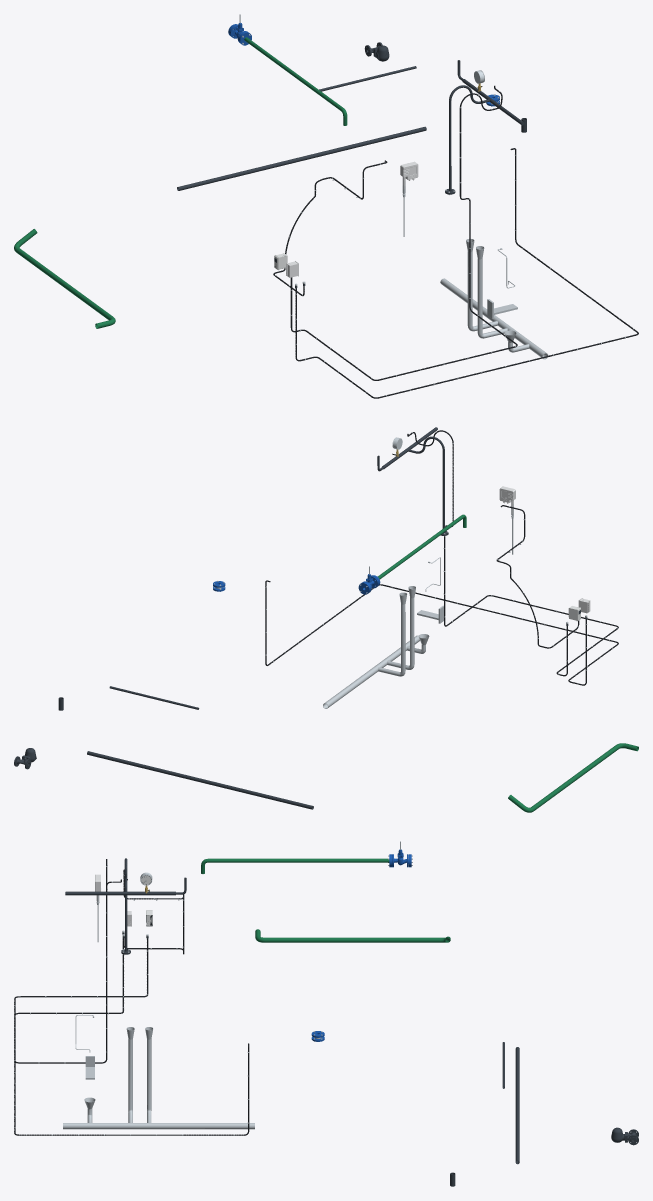
File: s4000-5-C_z9ohkZ.glb
The picture shows the model from 3 angles, top to bottom: view 1: azimuth 30°, elevation 25°; view 2: azimuth 150°, elevation 25°; view 3: azimuth 270°, elevation 25°; orthographic projection. The views are drawn at different scales.
Visible parts, largest first — view 1: local_open_drains / steel, wiring_pressure_transmitter / black, wiring_pump_1 / black, bottom_discharge / dark, deaerator_feed / green, pressure_header / dark, direct_inlet / green; view 2: local_open_drains / steel, wiring_pump_1 / black, bottom_discharge / dark, wiring_pressure_transmitter / black, deaerator_feed / green, pressure_header / dark; view 3: local_open_drains / steel, deaerator_feed / green, wiring_pump_1 / black, wiring_pressure_transmitter / black, direct_inlet / green, pressure_header / dark, bottom_discharge / dark.
Boxes of the visible parts, box(x1,y1,x2,y2) form: local_open_drains / steel: box(440, 239, 548, 359); wiring_pressure_transmitter / black: box(290, 85, 517, 380); wiring_pump_1 / black: box(295, 148, 638, 398); bottom_discharge / dark: box(177, 126, 426, 190); deaerator_feed / green: box(14, 229, 115, 328); pressure_header / dark: box(445, 60, 524, 194); direct_inlet / green: box(244, 37, 347, 125); local_open_drains / steel: box(323, 586, 429, 708); wiring_pump_1 / black: box(265, 580, 618, 685); bottom_discharge / dark: box(87, 751, 313, 809); wiring_pressure_transmitter / black: box(407, 430, 618, 676); deaerator_feed / green: box(508, 743, 638, 812); pressure_header / dark: box(377, 427, 448, 535); local_open_drains / steel: box(63, 1027, 254, 1129); deaerator_feed / green: box(255, 929, 450, 942); wiring_pump_1 / black: box(14, 938, 249, 1135); wiring_pressure_transmitter / black: box(14, 859, 148, 1063); direct_inlet / green: box(201, 858, 389, 873); pressure_header / dark: box(65, 858, 186, 954); bottom_discharge / dark: box(515, 1047, 519, 1164).
Bounding box in the file's own units: 6.25 × 2.93 × 6.74.
